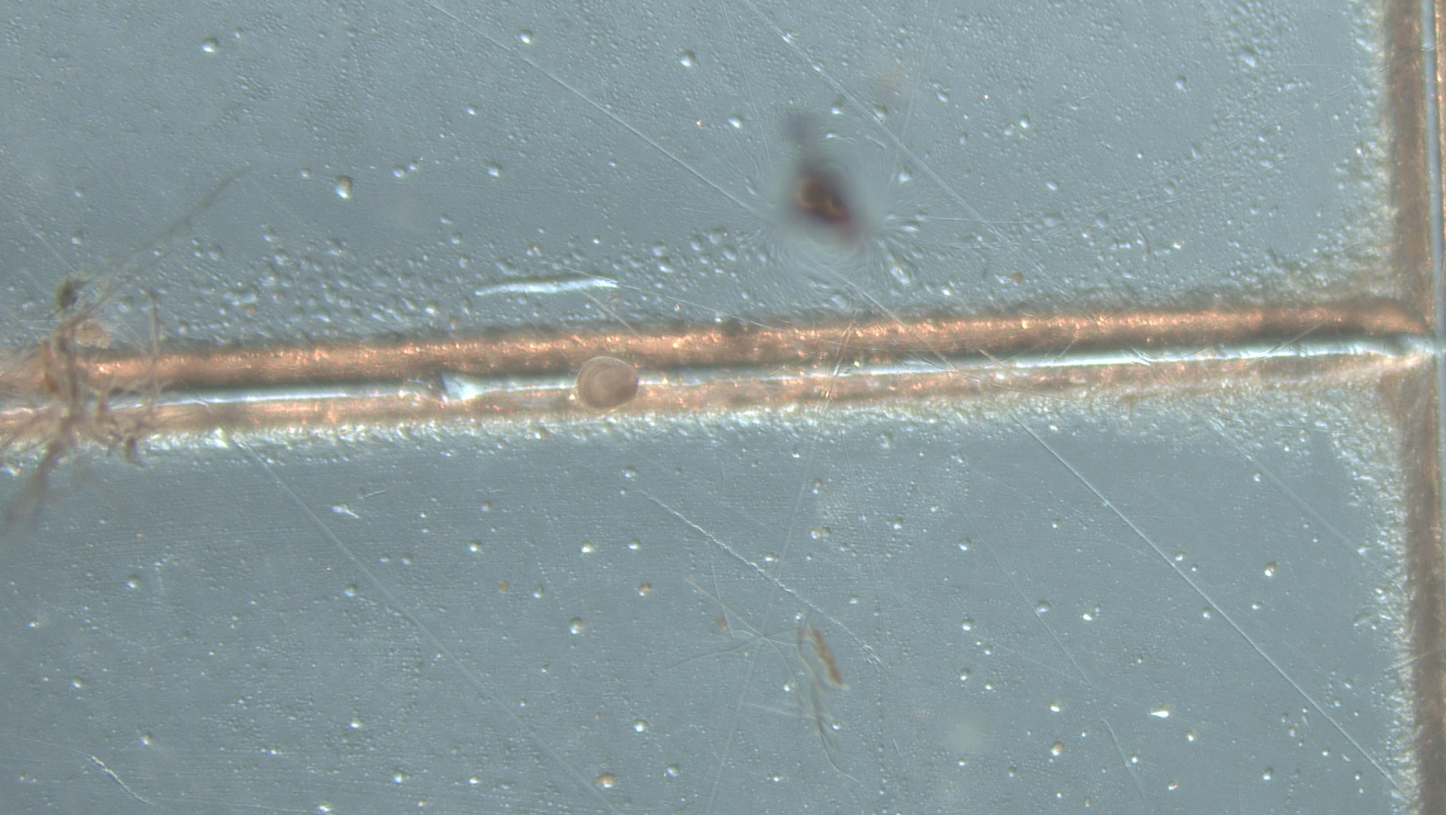live: (575, 356, 638, 410)
